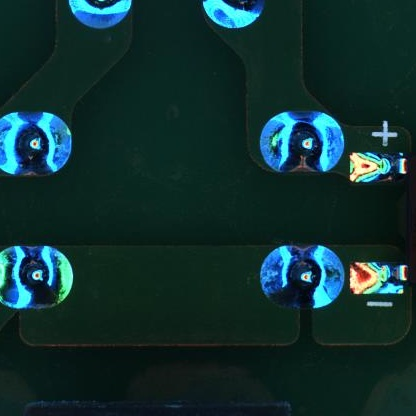spot: (260, 243, 345, 310), (260, 110, 345, 175), (1, 244, 74, 310), (1, 111, 72, 177), (202, 1, 266, 31), (67, 1, 132, 30)
